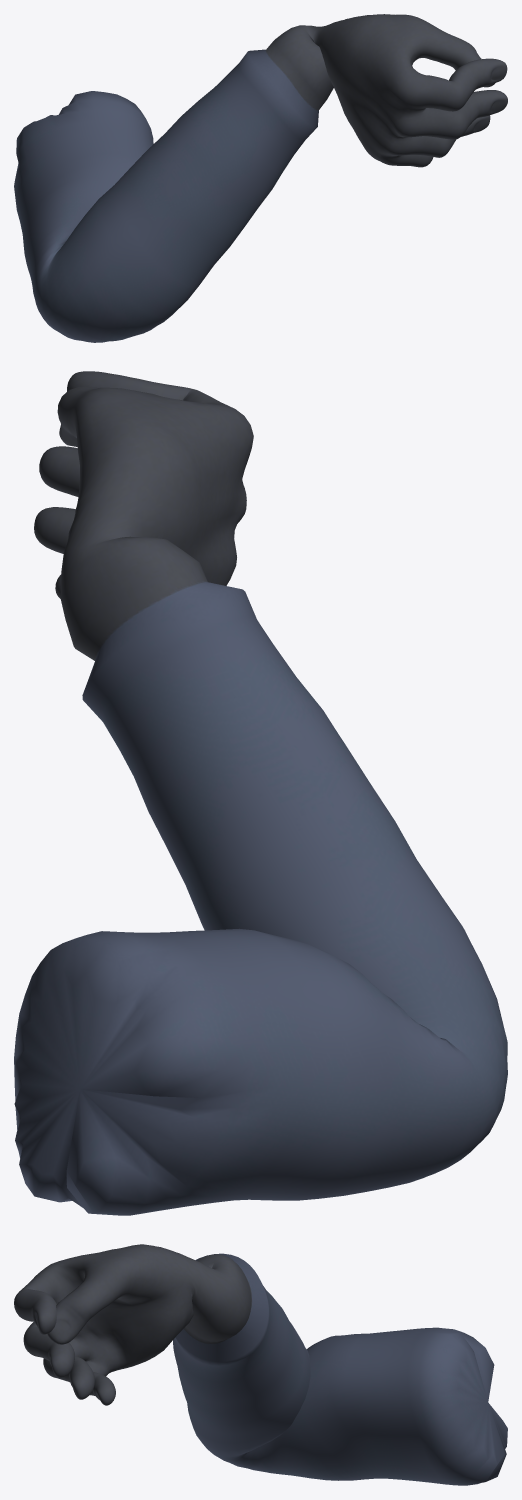
The model's file is muhafiz_grenade.fbx.
3 renders of one model, top to bottom at view 1: azimuth 30°, elevation 25°; view 2: azimuth 150°, elevation 25°; view 3: azimuth 270°, elevation 25°, orthographic. The views are drawn at different scales.
Visible parts, largest first — view 1: RightArm; view 2: RightArm; view 3: RightArm.
Boxes of the visible parts, x1=… form: RightArm: x1=14, y1=14, x2=507, y2=342; RightArm: x1=14, y1=371, x2=507, y2=1215; RightArm: x1=14, y1=1244, x2=507, y2=1485.
Bounding box in the file's own units: 0.3118 × 0.2648 × 0.3594.
